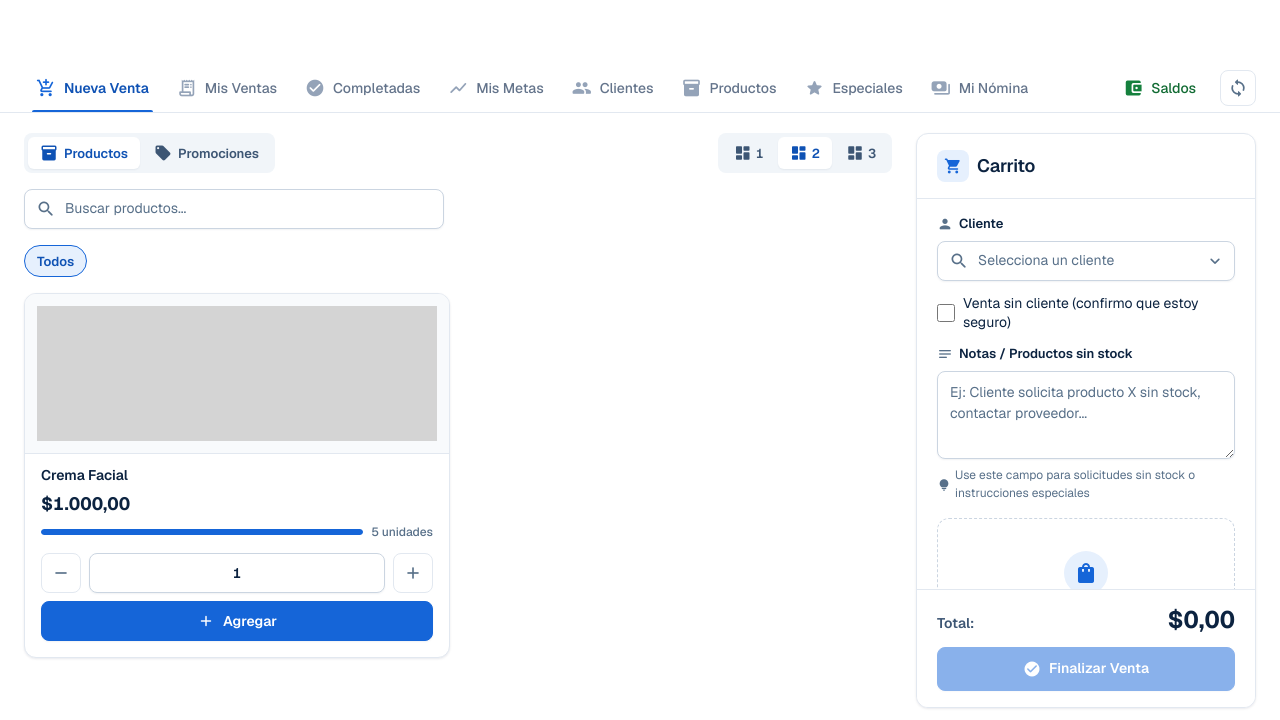
Scenario: Mis Ventas: el INVENTORY_UPDATE reemplaza la lista en su lugar ("Ver productos" sigue abierto, sin esqueleto)
This screenshot has width=1280, height=720.
Expected: the heading "Crema Facial" is shown, left=41, top=466, right=128, bottom=485
Click the button "Mis Ventas".
click(227, 88)  # box left=165, top=64, right=289, bottom=112
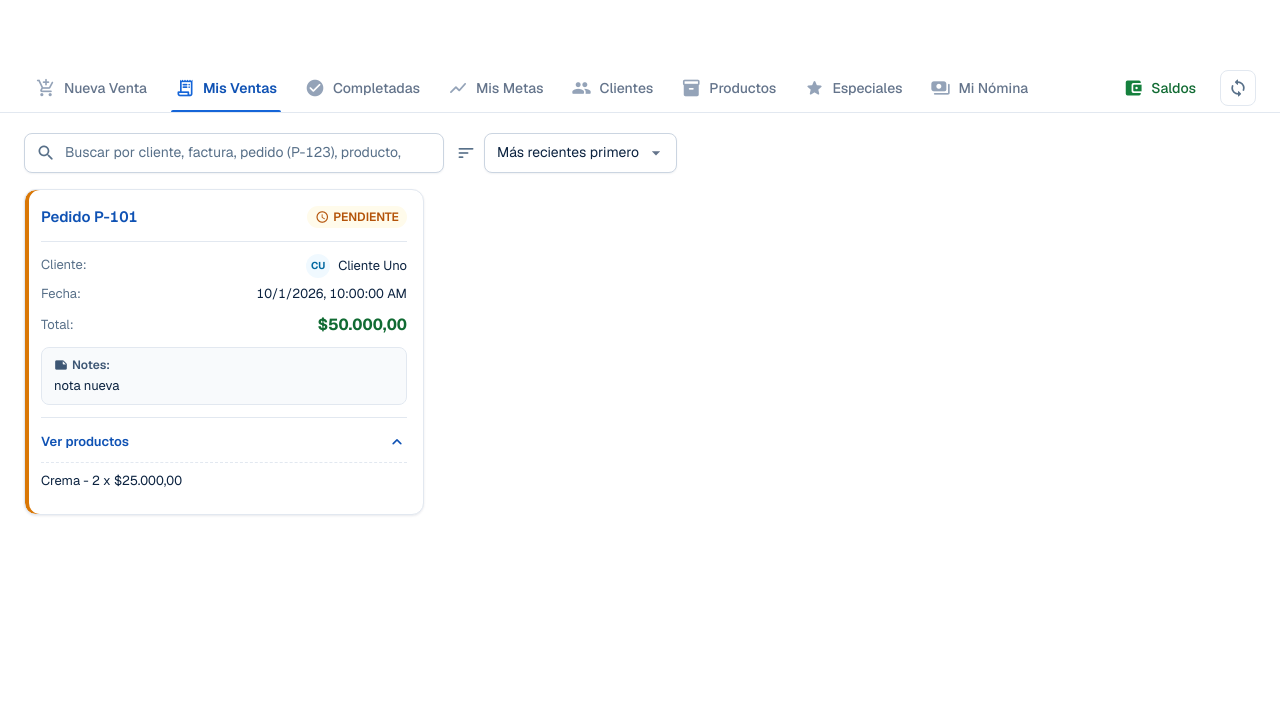
Now the text "nota nueva" is shown, box left=54, top=377, right=119, bottom=394
